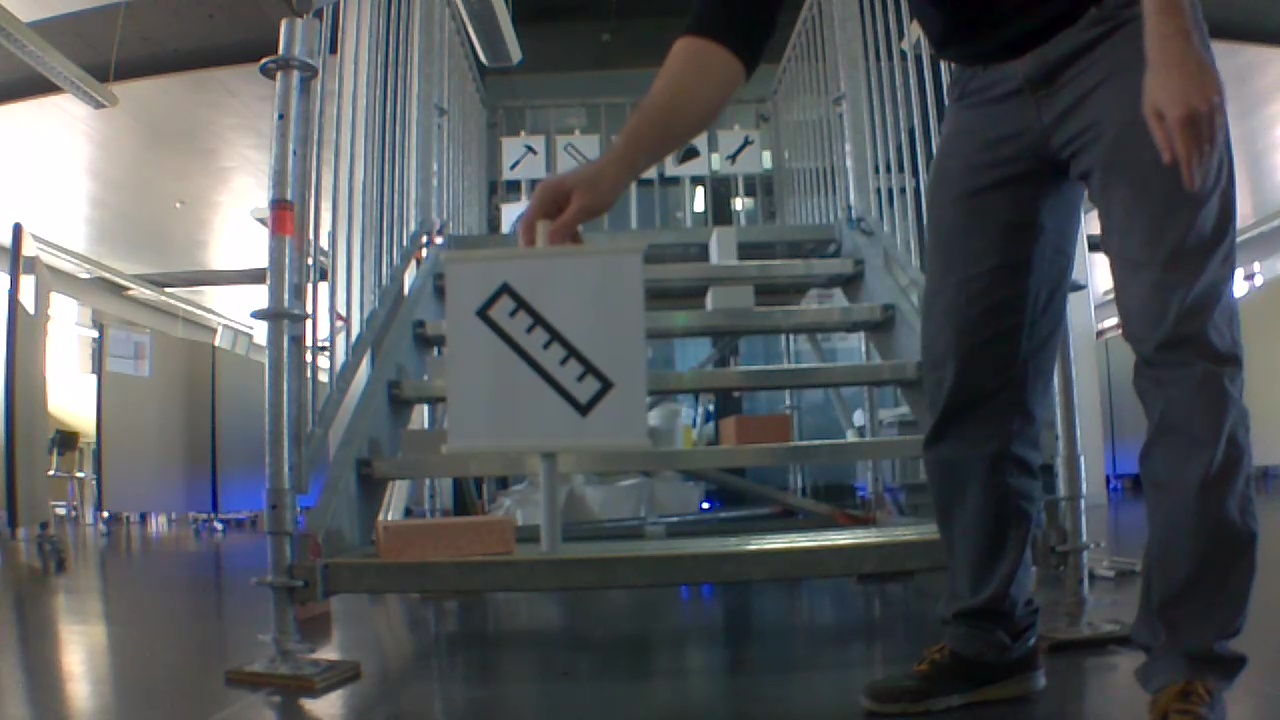brick: (376, 510, 522, 559), (724, 409, 800, 443), (707, 284, 754, 306), (711, 224, 735, 261)
edge: (318, 537, 951, 599), (355, 435, 931, 481)
hammer: (511, 141, 537, 169)
ruler: (475, 276, 623, 421)
taco: (668, 139, 706, 167)
wrench: (724, 133, 755, 168)
